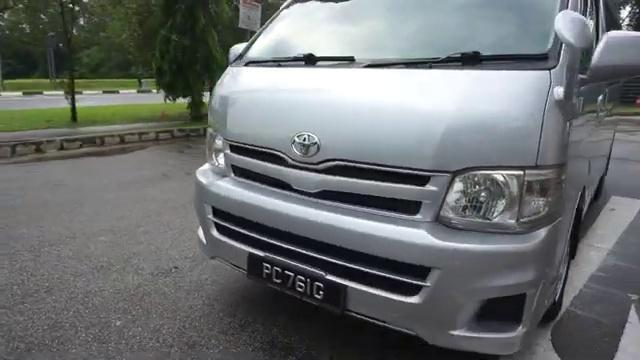van: (185, 0, 640, 352)
